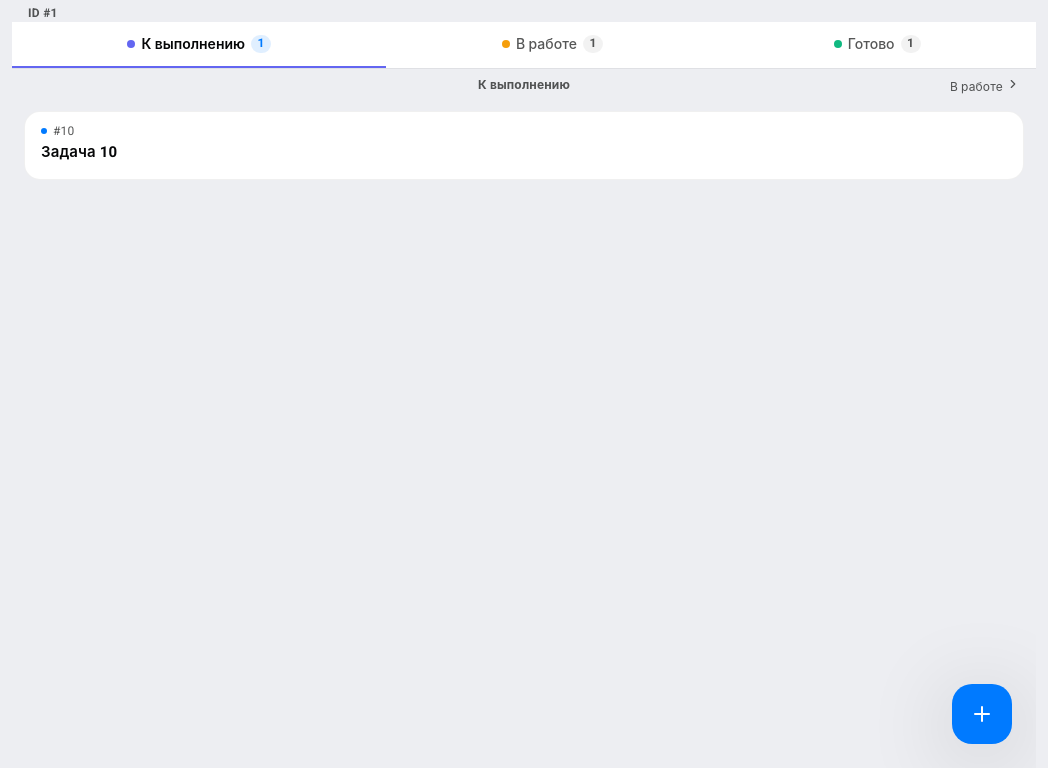
Test: MobileBoard › switches statuses by tapping a tab
Expected: the text "Задача 10" is shown, left=41, top=143, right=117, bottom=161
Click the tab "В работе 1" at {"x": 552, "y": 45}, box left=386, top=22, right=718, bottom=68
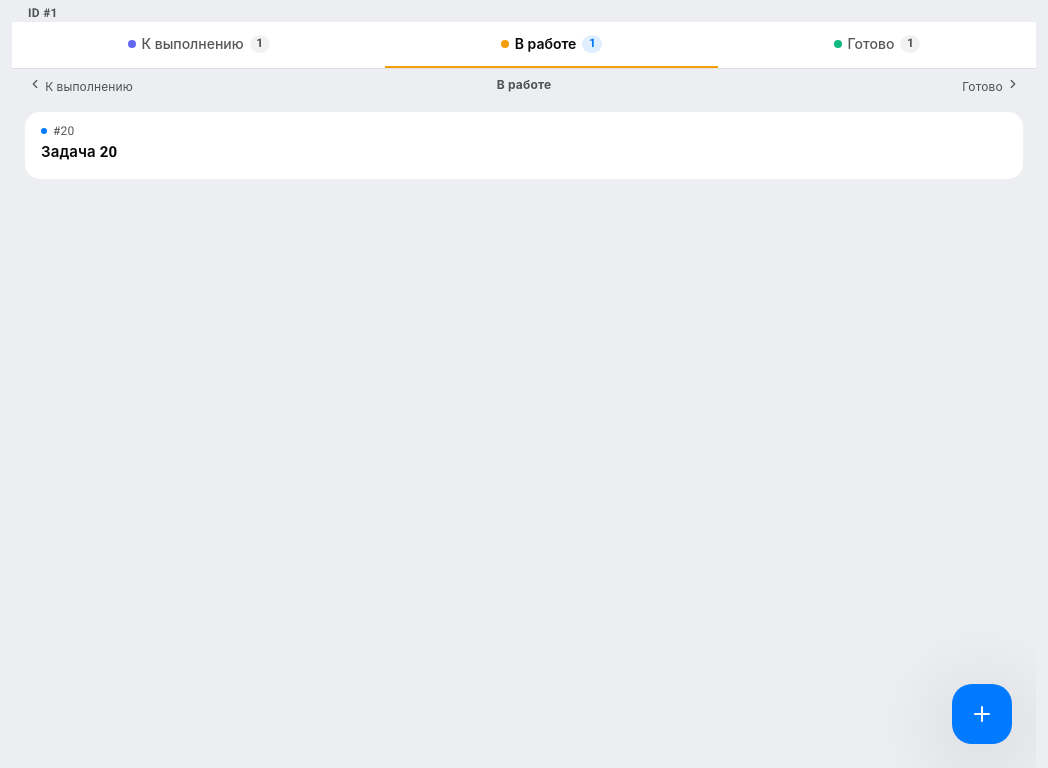
Expected: the text "Задача 20" is shown, left=41, top=143, right=117, bottom=161
Expected: the text "Задача 10" is gone
